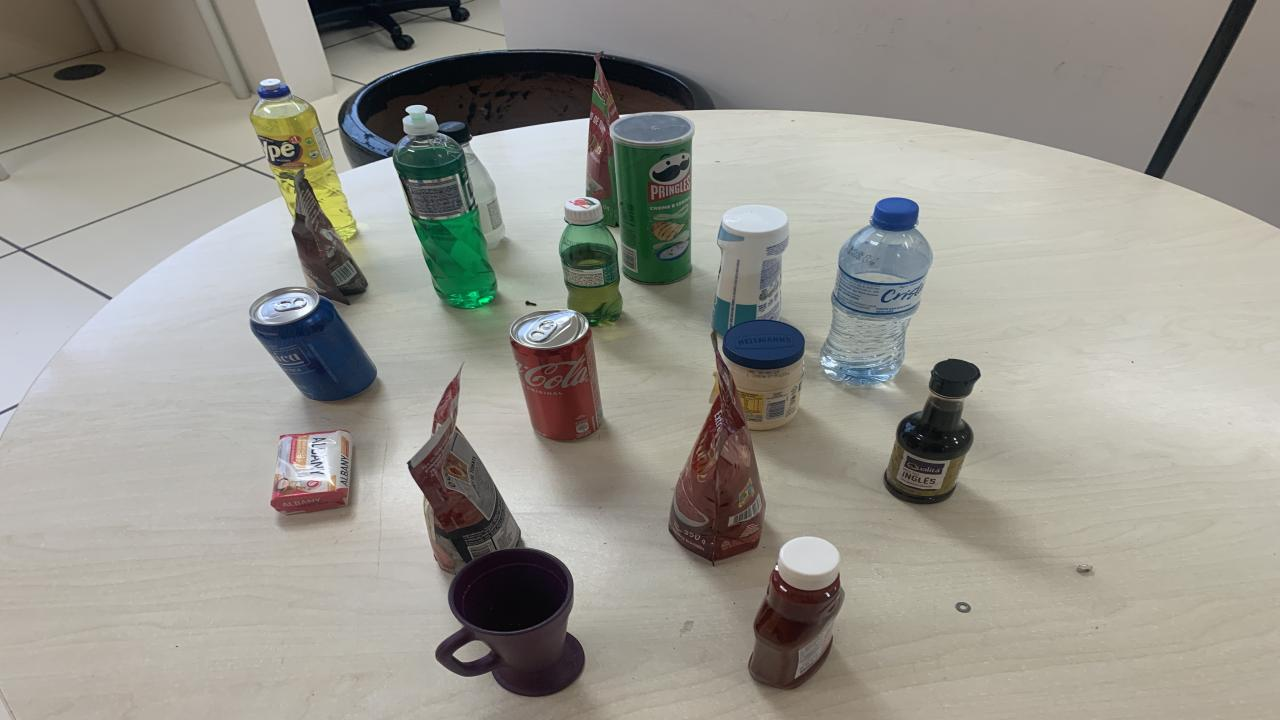Cleaner-Cleanup_Items: (712, 204, 790, 336)
Coffee-Pantry_Items: (292, 169, 368, 304)
Coke-Drinks: (510, 309, 602, 441)
Detergent-Cleanup_Items: (392, 105, 498, 308), (250, 79, 358, 240)
English_Sauce-Pantry_Items: (885, 360, 980, 504)
Guarana-Drinks: (560, 197, 622, 324)
Ketchup-Pantry_Items: (748, 536, 845, 688)
Mayonnaise-Pantry_Items: (722, 321, 805, 429)
Pringles-Snacks: (610, 112, 695, 283)
Soap-Cleanup_Items: (270, 429, 352, 514)
Soda-Drinks: (440, 122, 505, 248)
Tomato_Sauce-Pantry_Items: (408, 375, 522, 574), (668, 332, 765, 562), (585, 54, 620, 227)
Tonic-Drinks: (250, 287, 378, 401)
Water_Bottle-Drinks: (820, 197, 932, 386)
